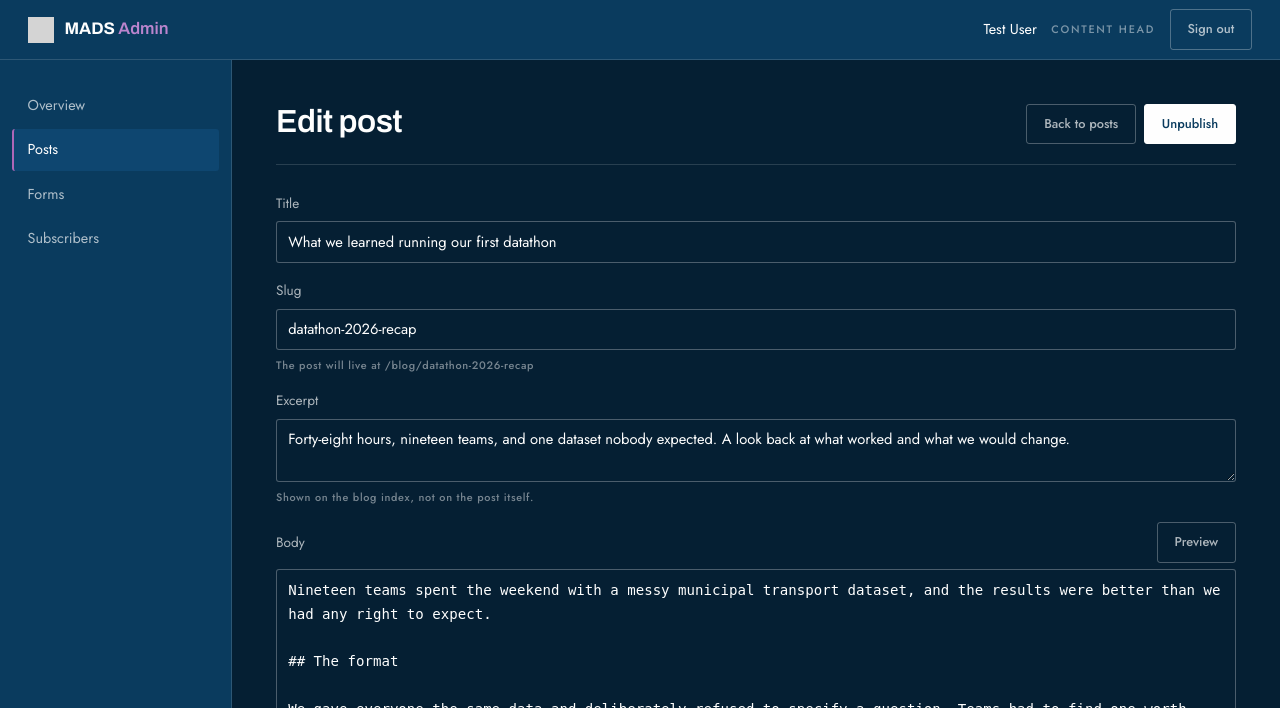
Scenario: PostEditor › previews the markdown as the site will render it
Click the button "Preview".
click(1196, 543)  # box [1157,522,1236,563]
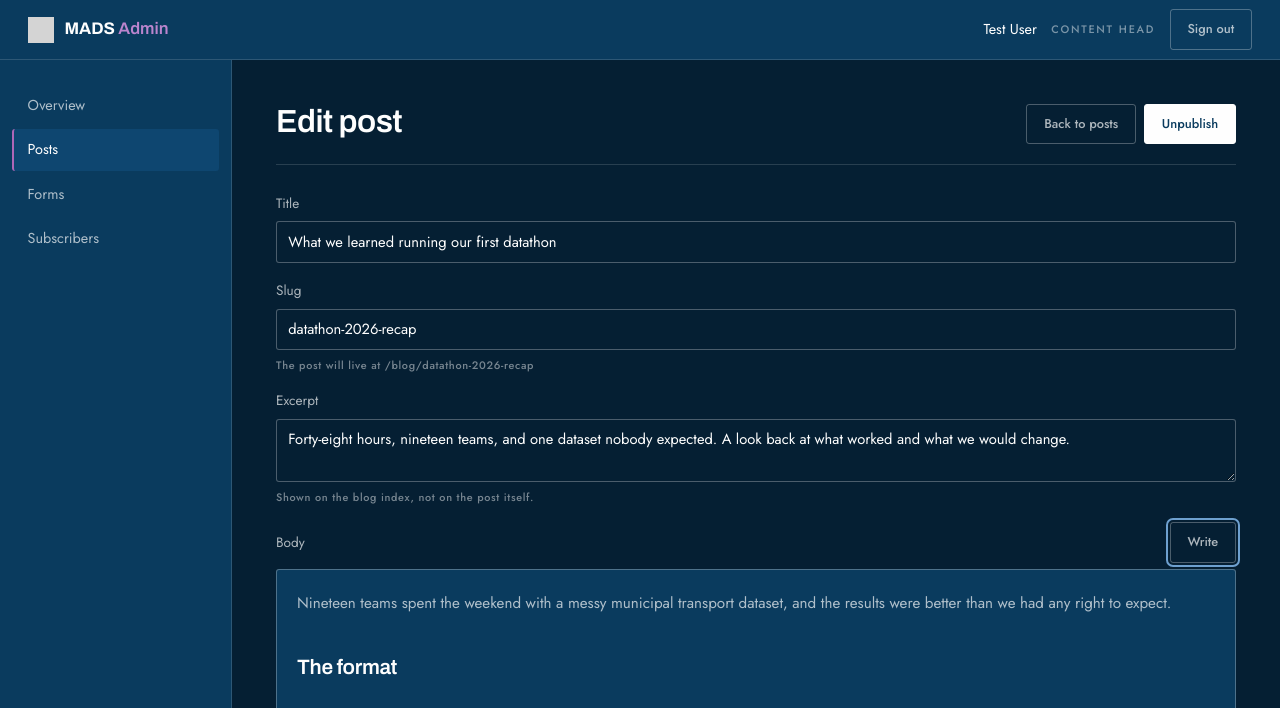
Expected: the heading "The format" is shown, [297,656,397,678]
